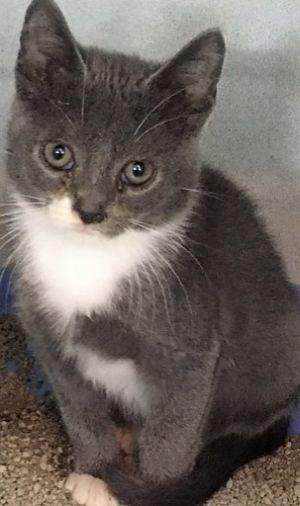rblue: (1, 1, 231, 262)
